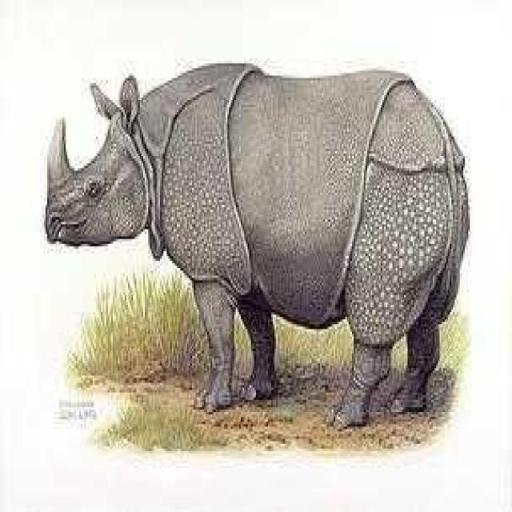Rhino: (42, 59, 470, 429)
